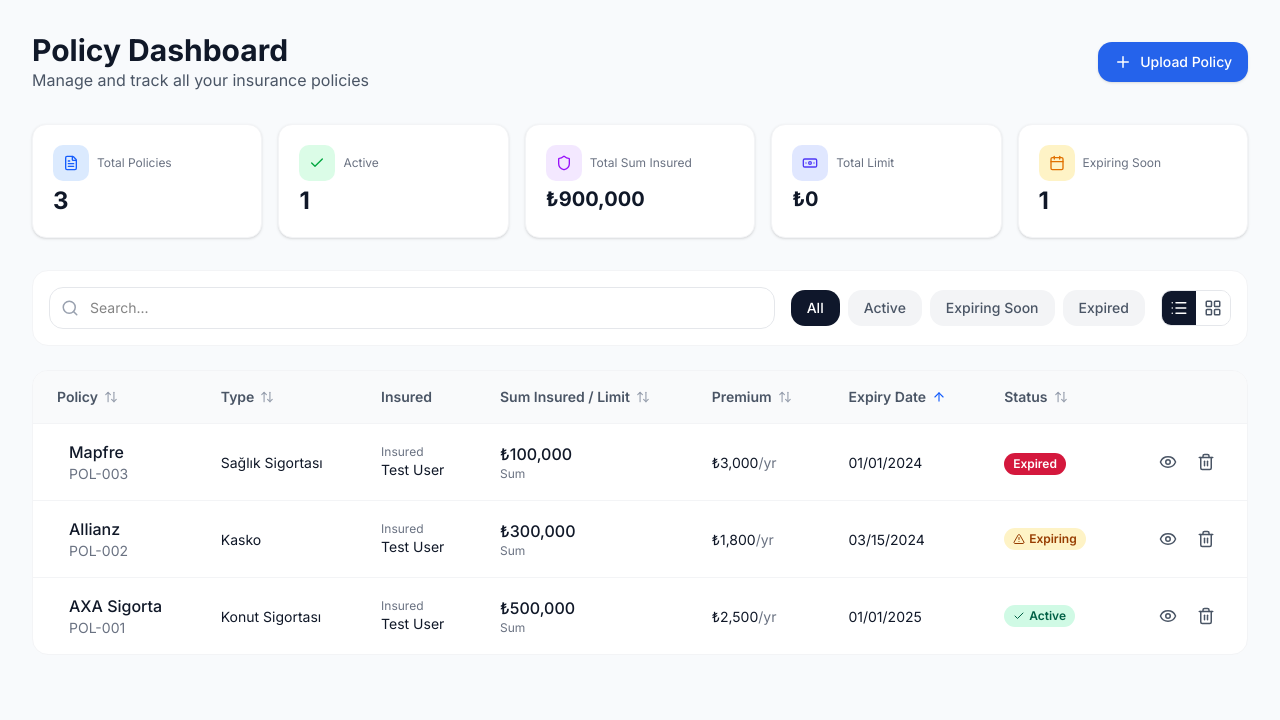
Scenario: PolicyDashboard › Status Filter › should filter by expiring status
The image size is (1280, 720).
Click the button "Expiring Soon": coordinates (992, 308) [930,290,1055,326]
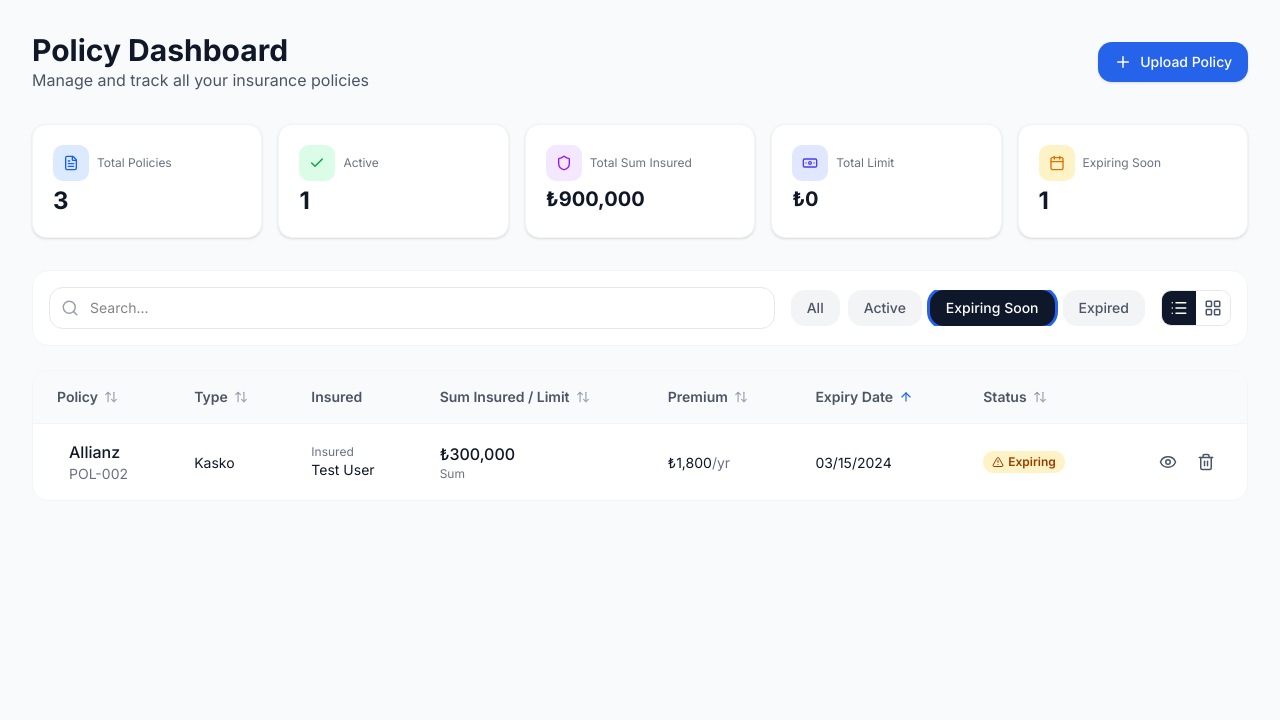
Expected: the text "POL-002" is shown, [69,464,128,484]
Result: the text "POL-001" is gone
Result: the text "POL-003" is gone
